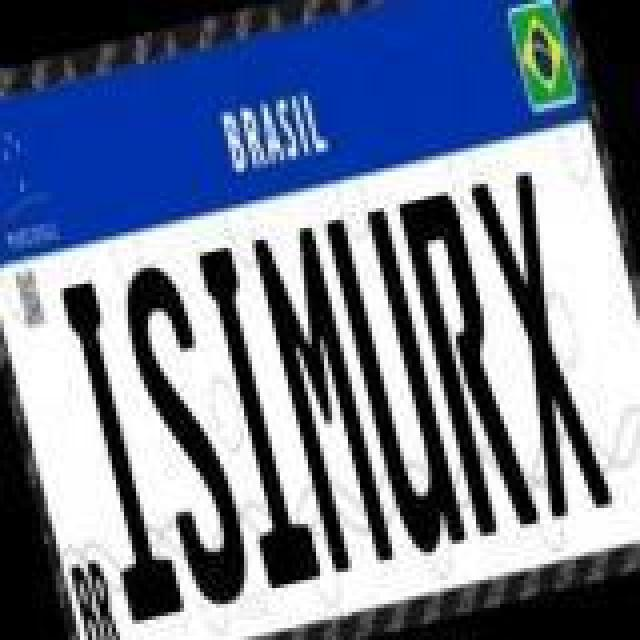I: (188, 240, 324, 592), (52, 280, 188, 624)
M: (248, 222, 400, 578)
R: (394, 186, 542, 542)
S: (110, 256, 258, 616)
U: (322, 204, 470, 564)
X: (472, 166, 616, 522)
